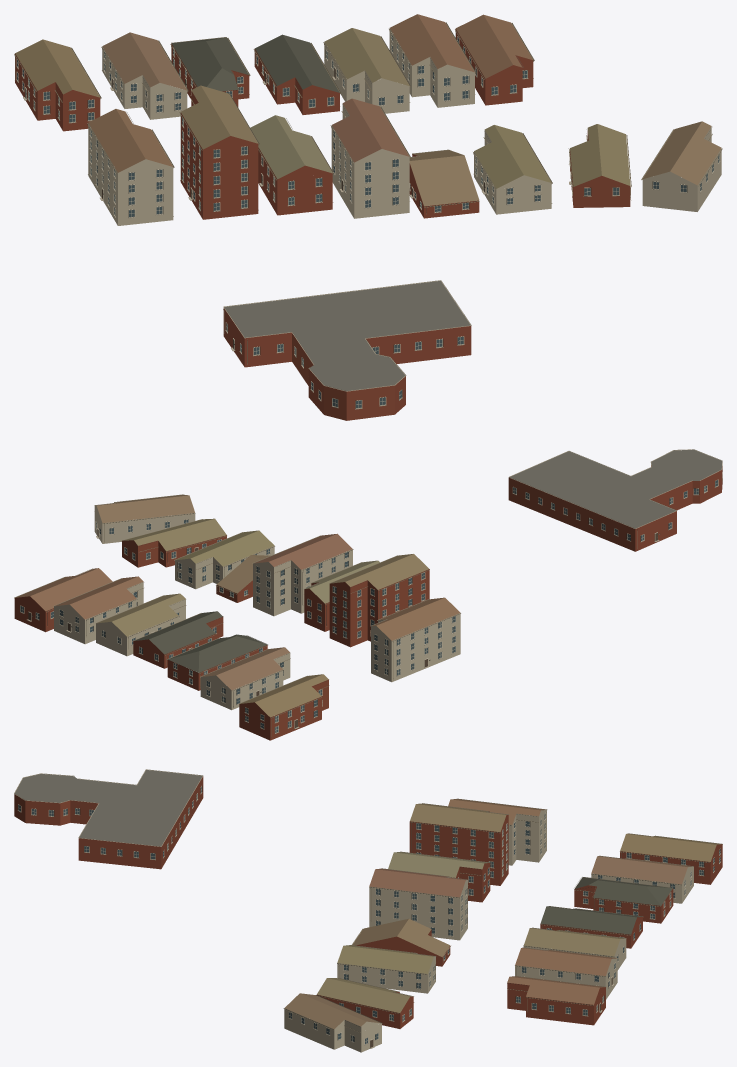
3 views of the same model, one above another, from view 1: azimuth 30°, elevation 25°; view 2: azimuth 150°, elevation 25°; view 3: azimuth 270°, elevation 25° (orthographic). The views are drawn at different scales.
Parts seen in each view (by area): view 1: -1_9_599463983_0, -1_9_1336877241_33; view 2: -1_9_599463983_0, -1_9_1336877241_33; view 3: -1_9_599463983_0, -1_9_1336877241_33.
Boxes of the visible parts, box(x1,y1,x2,y2) form: -1_9_599463983_0: box(14, 14, 722, 420); -1_9_1336877241_33: box(88, 28, 721, 225); -1_9_599463983_0: box(14, 449, 722, 740); -1_9_1336877241_33: box(54, 502, 460, 710); -1_9_599463983_0: box(14, 769, 722, 1048); -1_9_1336877241_33: box(284, 810, 693, 1052).
Bounding box in the file's own units: 143 × 23.99 × 188.
